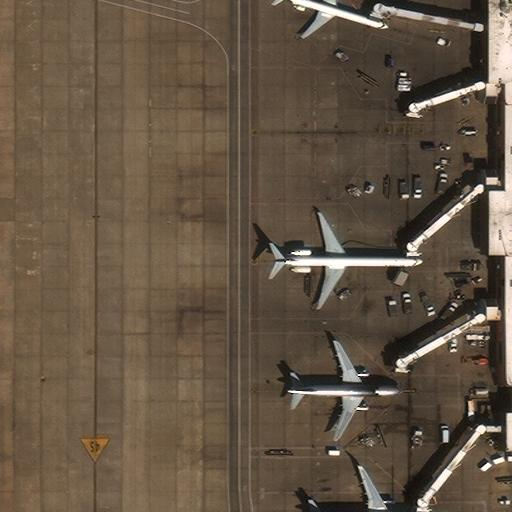Medium Civil Transport: (276, 213, 423, 309), (287, 340, 400, 440), (315, 466, 426, 512), (283, 0, 388, 38)
